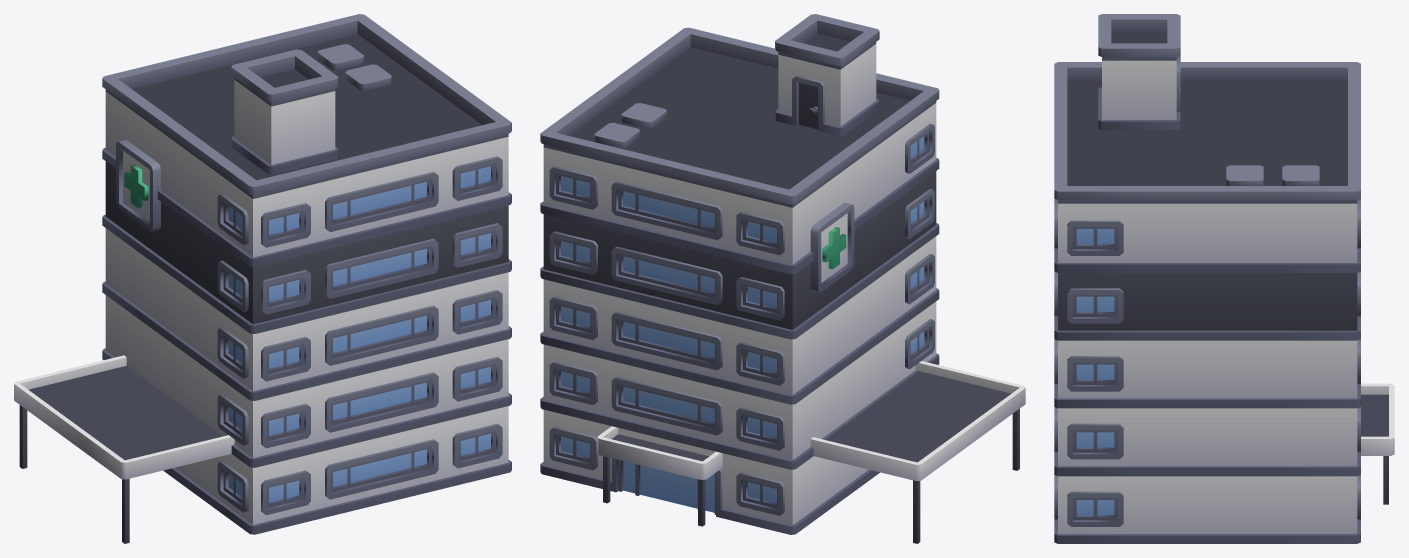
3 views of the same model, side by side, from view 1: azimuth 30°, elevation 25°; view 2: azimuth 150°, elevation 25°; view 3: azimuth 270°, elevation 25° (orthographic). The views are drawn at different scales.
Parts seen in each view (by area): view 1: building-n; view 2: building-n; view 3: building-n.
Boxes of the visible parts, left/top/right/bottom form: building-n: left=14, top=14, right=511, bottom=543; building-n: left=540, top=14, right=1025, bottom=543; building-n: left=1054, top=14, right=1394, bottom=543.
Bounding box in the file's own units: 21.53 × 23.02 × 16.89.
Materials: 1 (1 with a texture image).
